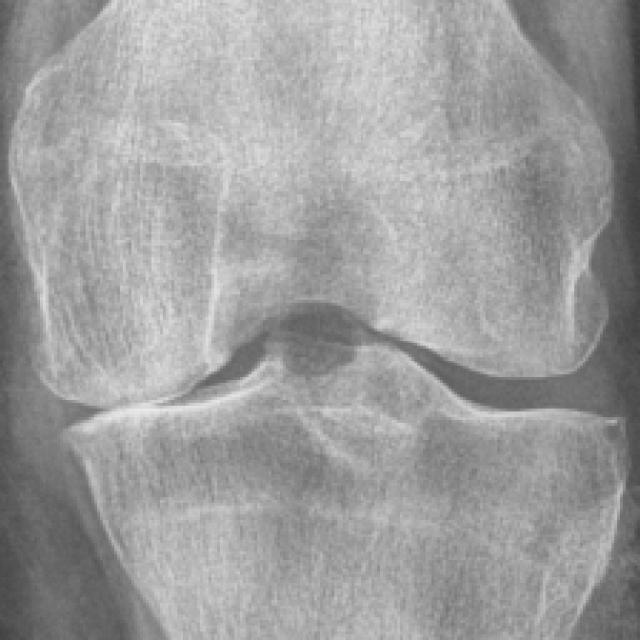femur: (7, 1, 637, 405)
tibia: (70, 346, 619, 637)
